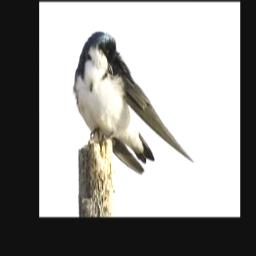Swallow: (71, 29, 194, 175)
